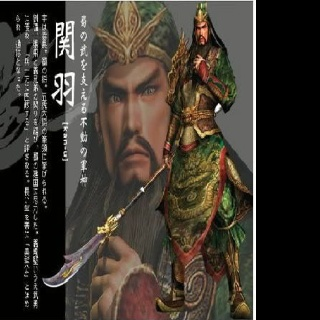without_mask: (94, 53, 175, 186)
